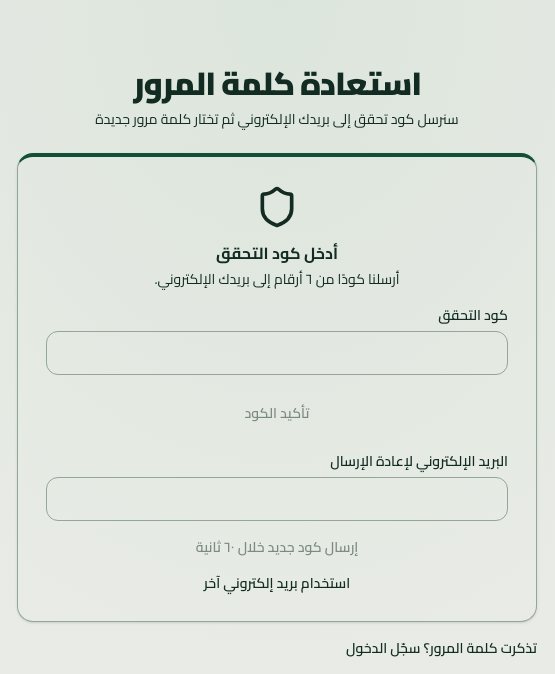
Scenario: password recovery page › continues after a lost code-verification response when the server accepted it
Type "123456" into the field labelled "كود التحقق".
click(277, 353); type("123456")  # box [46,331,508,375]
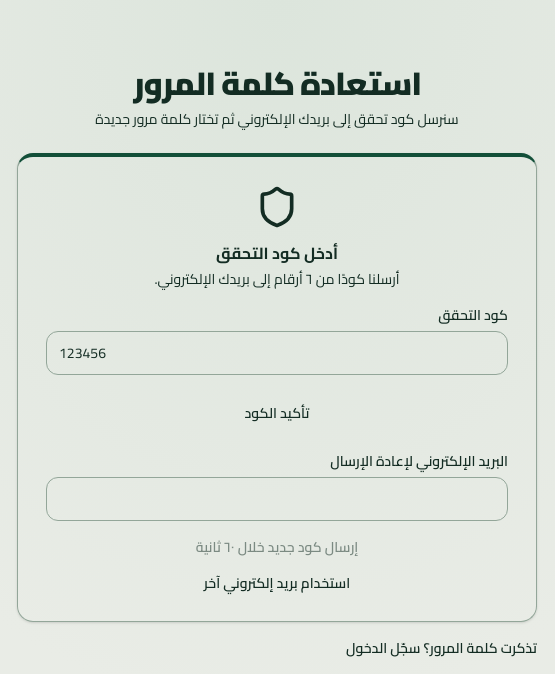
Click the button "تأكيد الكود".
click(277, 413)  # box [46,391,508,435]
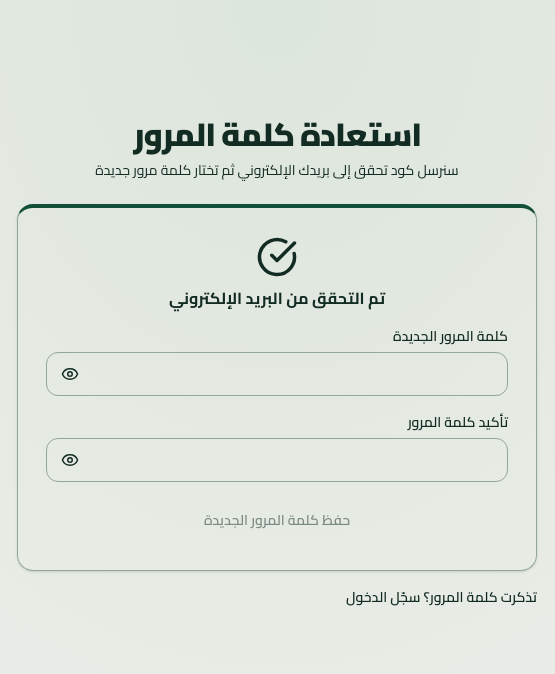
expect the text "تم التحقق من البريد الإلكتروني" is shown: met, box [169,283,385,313]
